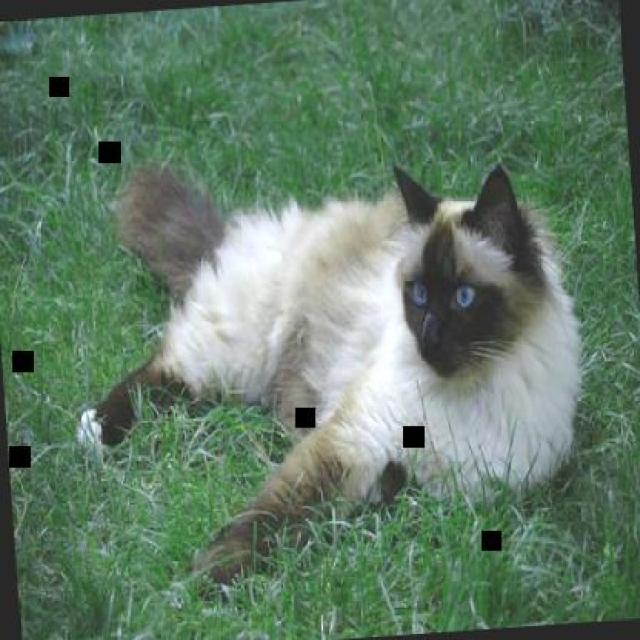cat: (63, 134, 591, 609)
